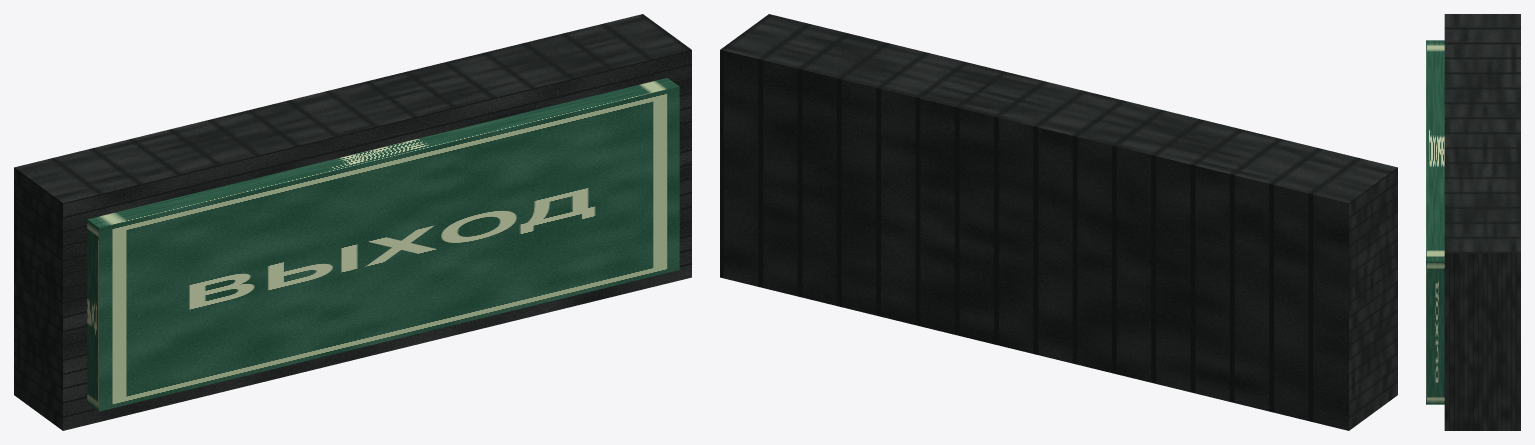
The model's file is ExitSign.glb.
The picture shows the model from 3 angles, left to right: view 1: azimuth 30°, elevation 25°; view 2: azimuth 150°, elevation 25°; view 3: azimuth 270°, elevation 25°; orthographic projection. The views are drawn at different scales.
Parts seen in each view (by area): view 1: ExitSign; view 2: ExitSign; view 3: ExitSign.
Part boxes in pixels (<box>): ExitSign: <box>14,14,691,430</box>; ExitSign: <box>720,14,1397,430</box>; ExitSign: <box>1426,14,1520,430</box>.
Bounding box in the file's own units: 0.52 × 0.18 × 0.087.
Materials: 2 (2 with a texture image).
